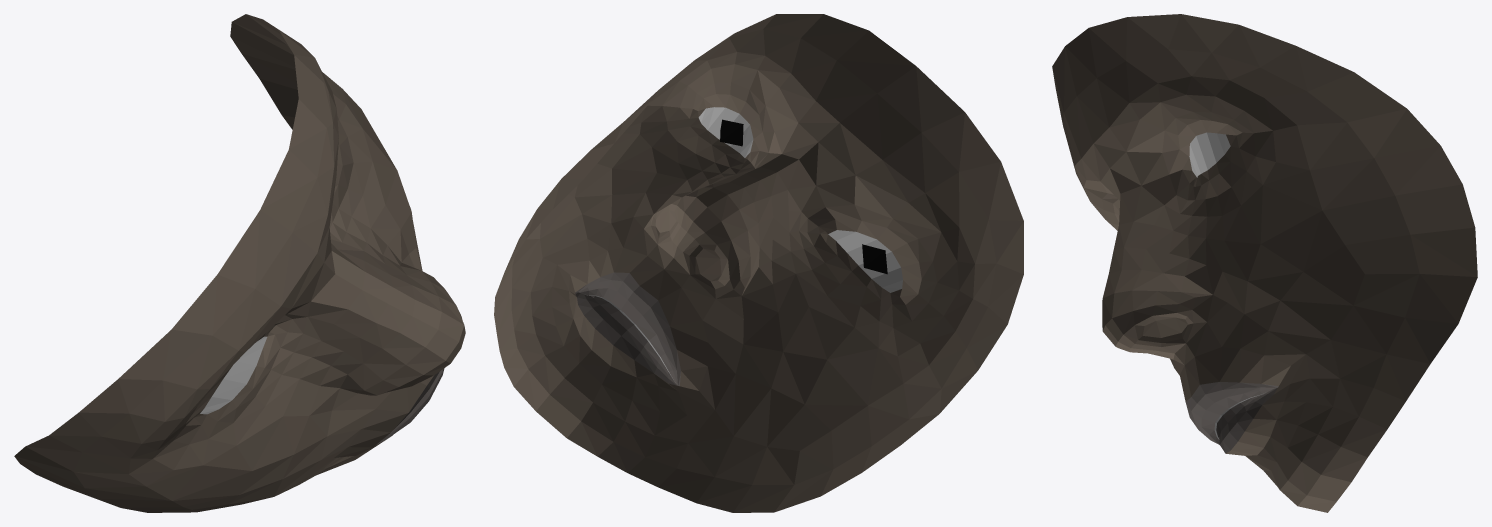
File: IMG_3705.obj
3 views of the same model, side by side, from view 1: azimuth 30°, elevation 25°; view 2: azimuth 150°, elevation 25°; view 3: azimuth 270°, elevation 25° (orthographic). The views are drawn at different scales.
Parts seen in each view (by area): view 1: face_model_with_iris; view 2: face_model_with_iris; view 3: face_model_with_iris.
Part boxes in pixels (<box>): face_model_with_iris: <box>14,14,465,512</box>; face_model_with_iris: <box>494,14,1023,512</box>; face_model_with_iris: <box>1052,14,1477,512</box>.
Bounding box in the file's own units: 0.9685 × 0.9995 × 0.8421.
